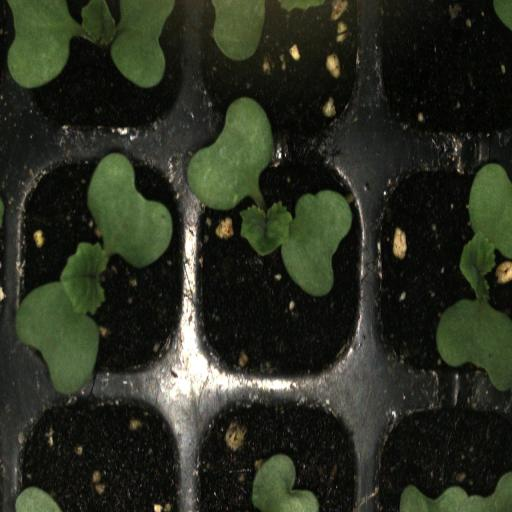Folha: (399, 471, 512, 512), (252, 453, 319, 512), (210, 0, 270, 62)
Germinacao: (7, 140, 189, 390), (189, 140, 370, 387), (369, 140, 512, 391), (7, 0, 189, 142)
